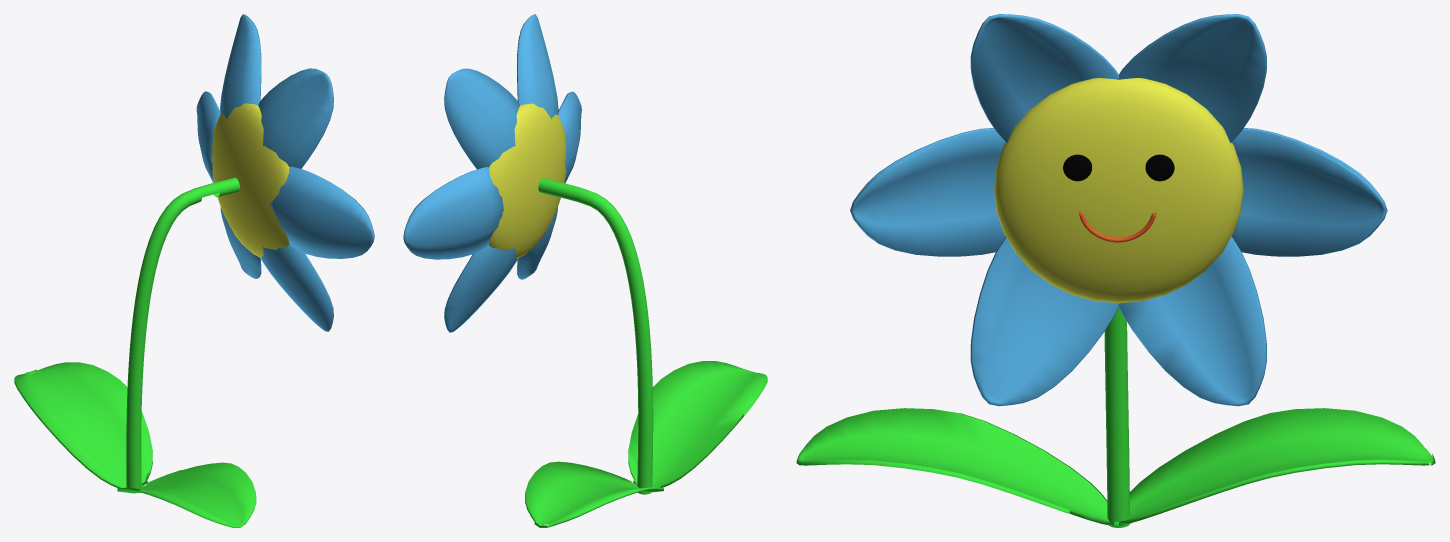
The model's file is rippedFlower.fbx.
3 views of the same model, side by side, from view 1: azimuth 30°, elevation 25°; view 2: azimuth 150°, elevation 25°; view 3: azimuth 270°, elevation 25° (orthographic). The views are drawn at different scales.
Parts seen in each view (by area): view 1: Flower.006, Flower.003, Flower.007, Flower.005, Flower.001; view 2: Flower.006, Flower.001, Flower.007, Flower.005, Flower.003, Flower.004; view 3: Flower.006, Flower.007, Flower.001, Flower.003, Flower.005, Flower.008.
Part boxes in pixels (x1,y1,x2,y2): Flower.006: [196, 14, 374, 331]; Flower.003: [14, 362, 152, 488]; Flower.007: [212, 103, 289, 258]; Flower.005: [24, 177, 239, 493]; Flower.001: [138, 462, 256, 527]; Flower.006: [403, 14, 581, 332]; Flower.001: [629, 361, 767, 486]; Flower.007: [489, 103, 566, 258]; Flower.005: [534, 178, 653, 527]; Flower.003: [525, 461, 663, 526]; Flower.004: [628, 414, 744, 487]; Flower.006: [850, 14, 1387, 406]; Flower.007: [994, 78, 1243, 303]; Flower.001: [796, 408, 1108, 521]; Flower.003: [1114, 408, 1431, 526]; Flower.005: [1104, 307, 1435, 527]; Flower.008: [1063, 154, 1174, 181].
Bounding box in the file's own units: 44.78 × 87.72 × 81.66.
